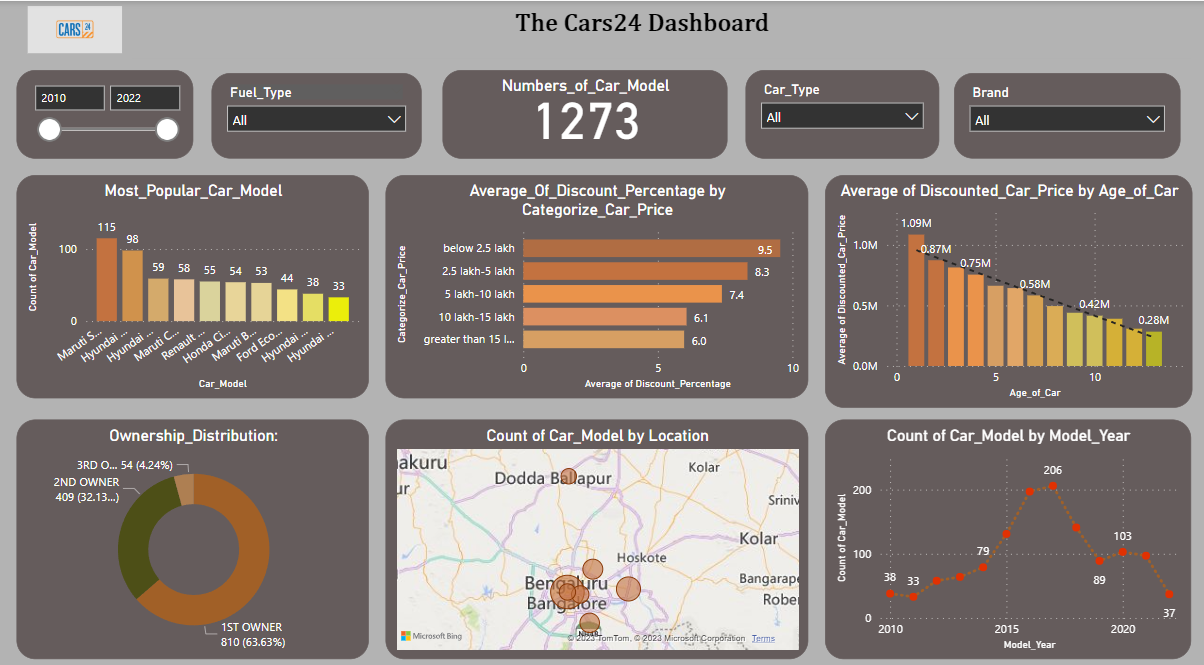

The page's visual inventory and layout, read from the dashboard file:
{"tool":"powerbi","page":{"name":"DashBoard","canvas":[1280,720],"ordinal":0},"visuals":[{"type":"barChart","title":"Average_Of_Discount_Percentage_by_Categorize_Car_Price","fields":{"Category":["Cars_24.Categorize_Car_Price"],"Y":["Avg(Cars_24.Discount_Percentage)"]},"box":[408.5,184.4,448.2,236.8],"z":0},{"type":"columnChart","title":"Most_Popular_Car_Model","fields":{"Category":["Cars_24.Car_Model"],"Y":["CountNonNull(Cars_24.Car_Model)"]},"box":[17.5,184.4,373.5,236.8],"z":1000},{"type":"clusteredColumnChart","fields":{"Y":["Avg(Cars_24.Discounted_Car_Price)"],"Category":["Cars_24.Age_of_Car"]},"box":[874.2,184.4,389.4,246.4],"z":2000},{"type":"donutChart","title":"Ownership_Distribution:","fields":{"Category":["Cars_24.Ownership"],"Y":["CountNonNull(Cars_24.Car_Model)"]},"box":[17.5,443.4,373.5,254.3],"z":3000},{"type":"map","fields":{"Category":["Cars_24.Location"],"Size":["CountNonNull(Cars_24.Car_Model)"]},"box":[408.5,443.4,448.2,254.3],"z":4000},{"type":"lineChart","fields":{"Category":["Cars_24.Model_Year"],"Y":["CountNonNull(Cars_24.Car_Model)"]},"box":[874.2,443.4,387.8,254.3],"z":5000},{"type":"card","title":"Numbers_of_Car_Model","fields":{"Values":["Cars_24.Number_of_Car_Model"]},"box":[468.9,73.1,302,93.8],"z":6000},{"type":"slicer","fields":{"Values":["Cars_24.Brand"]},"box":[1010.9,76.3,240,90.6],"z":7000},{"type":"slicer","fields":{"Values":["Cars_24.Car_Type"]},"box":[789.9,73.1,205,93.8],"z":8000},{"type":"slicer","fields":{"Values":["Cars_24.Fuel_Type"]},"box":[224.1,76.3,222.5,90.6],"z":9000},{"type":"slicer","fields":{"Values":["Cars_24.Model_Year"]},"box":[17.5,73.1,187.5,93.8],"z":10000},{"type":"image","box":[0,0,158.9,60.4],"z":11000},{"type":"textbox","box":[139.9,0,1122.1,60.4],"z":12000}]}

Visuals, with their boxes in screenshot pixels (x1, y1, x2, y2), scaled from the page's 1280x720 canvas onto the 1204x665 screenshot:
"Average_Of_Discount_Percentage_by_Categorize_Car_Price" barChart: x1=384 y1=170 x2=806 y2=389
"Most_Popular_Car_Model" columnChart: x1=16 y1=170 x2=368 y2=389
clusteredColumnChart - Avg(Cars_24.Discounted_Car_Price) x Cars_24.Age_of_Car: x1=822 y1=170 x2=1189 y2=398
"Ownership_Distribution:" donutChart: x1=16 y1=410 x2=368 y2=644
map - Cars_24.Location x CountNonNull(Cars_24.Car_Model): x1=384 y1=410 x2=806 y2=644
lineChart - Cars_24.Model_Year x CountNonNull(Cars_24.Car_Model): x1=822 y1=410 x2=1187 y2=644
"Numbers_of_Car_Model" card: x1=441 y1=68 x2=725 y2=154
slicer - Cars_24.Brand: x1=951 y1=70 x2=1177 y2=154
slicer - Cars_24.Car_Type: x1=743 y1=68 x2=936 y2=154
slicer - Cars_24.Fuel_Type: x1=211 y1=70 x2=420 y2=154
slicer - Cars_24.Model_Year: x1=16 y1=68 x2=193 y2=154
image: x1=0 y1=0 x2=149 y2=56
textbox: x1=132 y1=0 x2=1187 y2=56
